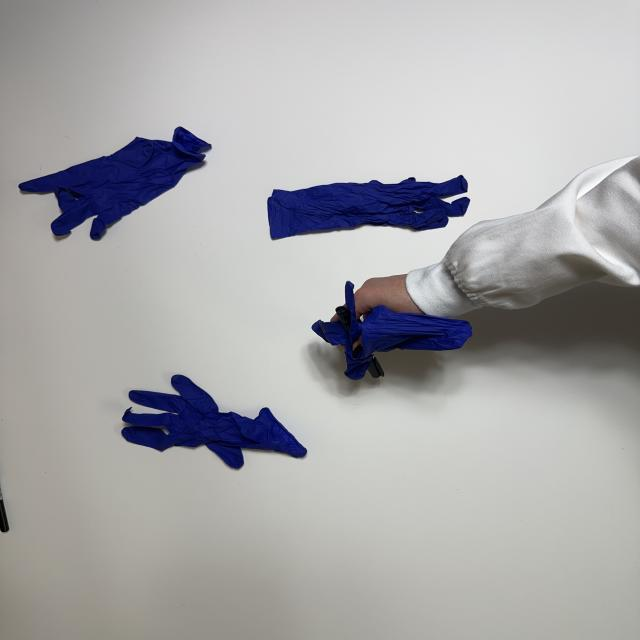glove_not_fitted: (310, 268, 473, 382)
